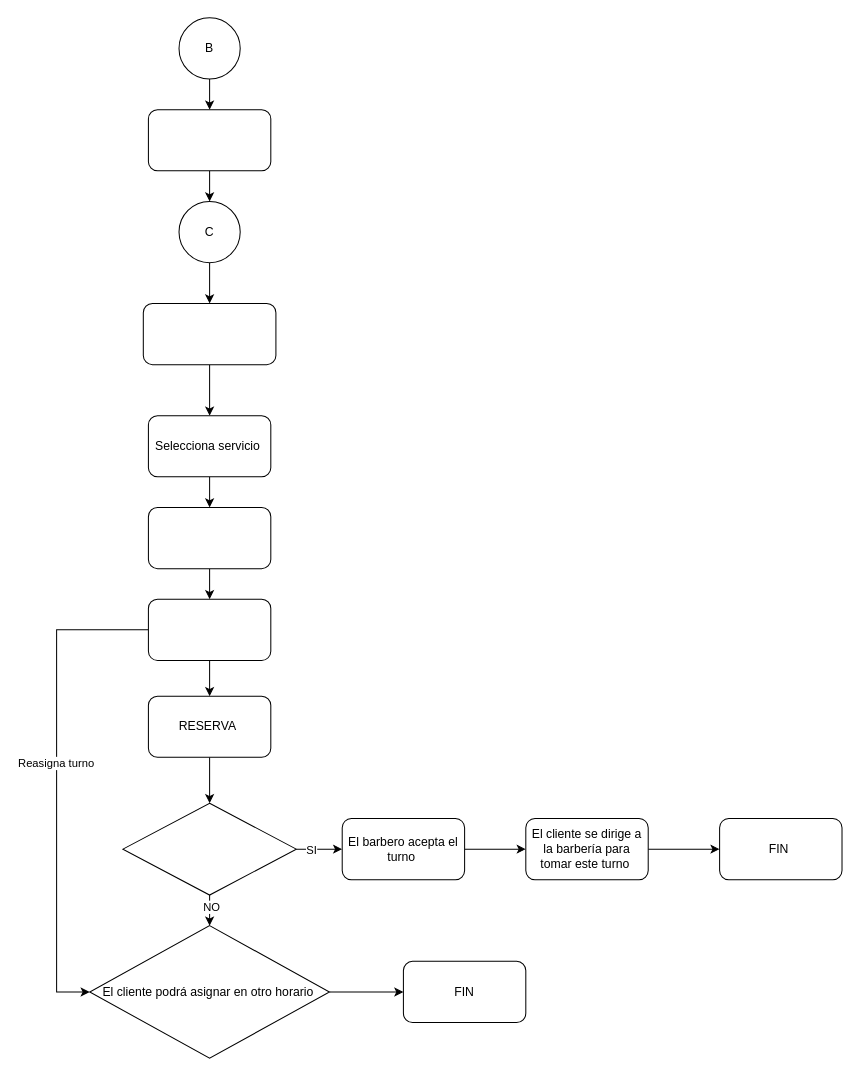
Image size: 860x1076. Some labels were removed from this diagram. The centre of each missing label's shape, as x and y in pixels:
"Acepta turnos de clientes" belongs at (209,140).
"Genera la reserva de turno" belongs at (209,333).
"Se reservo el turno correctamente" belongs at (209,848).
"Selecciona Barbero" belongs at (209,537).
"Selecciona fecha y hora disponible" belongs at (209,629).
